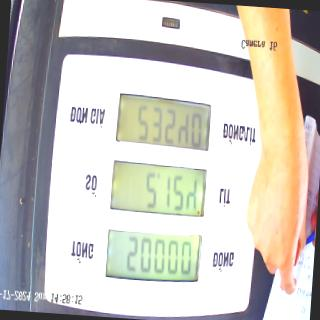screen: (102, 89, 214, 288)
